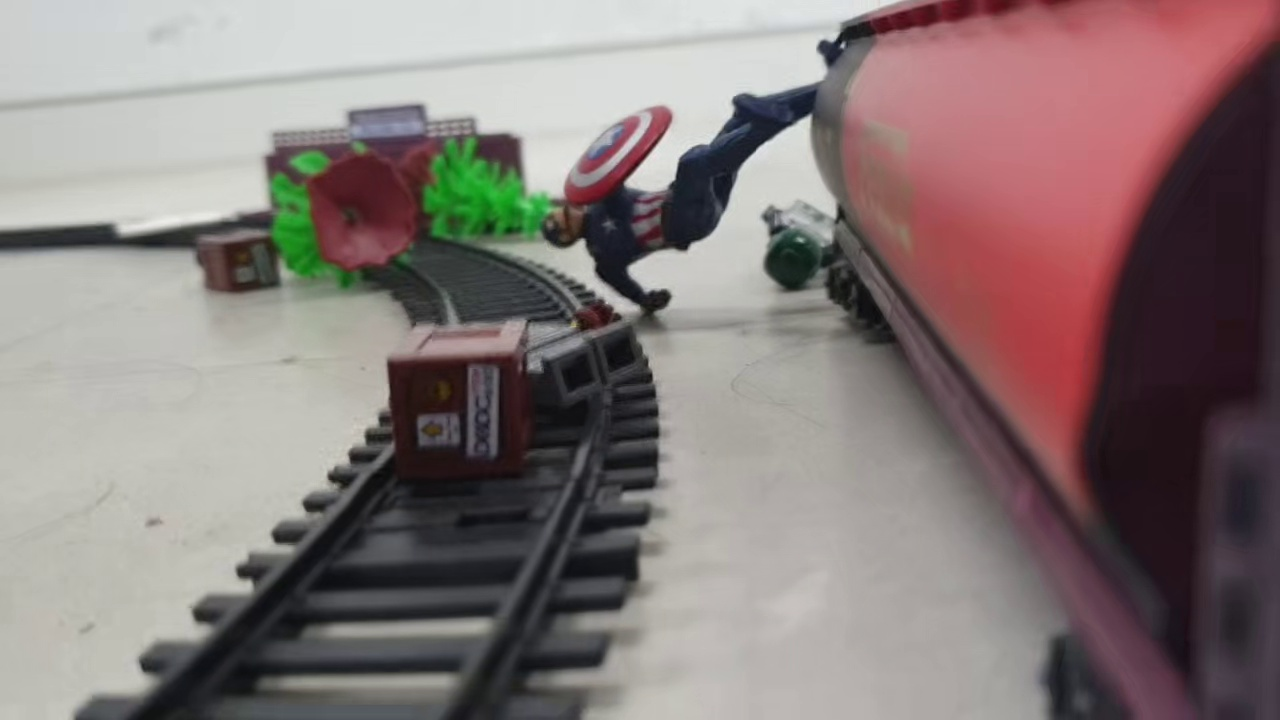box: (385, 322, 530, 479), (196, 229, 286, 294)
people: (541, 79, 830, 316), (761, 198, 844, 293)
tree: (269, 138, 419, 293), (392, 133, 569, 243)
